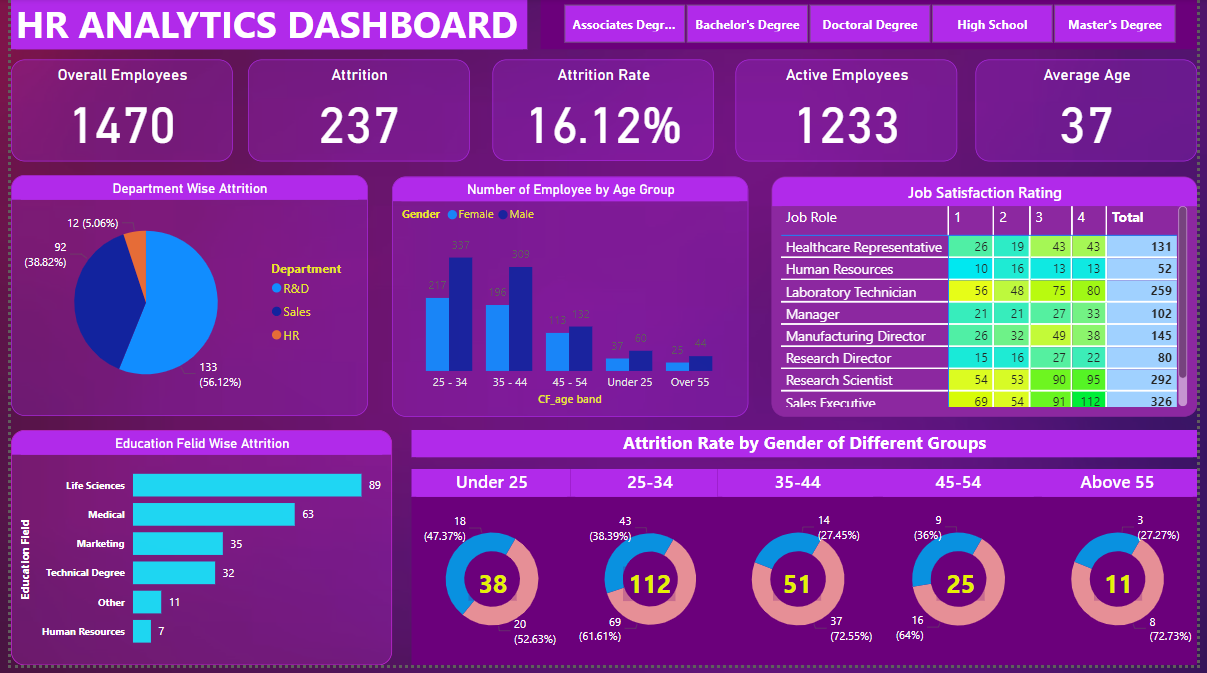

The page's visual inventory and layout, read from the dashboard file:
{"tool":"powerbi","page":{"name":"Page 1","canvas":[1280,720],"ordinal":0},"visuals":[{"type":"card","title":"Overall Employees","fields":{"Values":["Sum(HR data.Employee Count)"]},"box":[0,66.4,239.6,110.1],"z":0},{"type":"card","title":"Attrition","fields":{"Values":["Sum(HR data.Attrition Count)"]},"box":[255.8,66.4,239.6,110.1],"z":1000},{"type":"card","title":"Attrition Rate","fields":{"Values":["HR data.Attrition Rate"]},"box":[520.5,66.8,239,109.4],"z":2000},{"type":"card","title":"Active Employees","fields":{"Values":["HR data.Active Employee"]},"box":[782.1,66.4,239.6,110.1],"z":3000},{"type":"card","title":"Average Age","fields":{"Values":["Avg(HR data.Age)"]},"box":[1041.2,66.4,239.6,110.1],"z":4000},{"type":"pieChart","title":"Department Wise Attrition","fields":{"Category":["HR data.Department"],"Y":["Sum(HR data.Attrition Count)"]},"box":[0,191.1,385,260],"z":5000},{"type":"clusteredColumnChart","title":"Number of Employee by Age Group","fields":{"Category":["HR data.CF_age band"],"Series":["HR data.Gender"],"Y":["Sum(HR data.Employee Count)"]},"box":[411.1,192.4,384.8,259.2],"z":6000},{"type":"pivotTable","title":"Job Satisfaction Rating","fields":{"Rows":["HR data.Job Role"],"Columns":["HR data.Job Satisfaction"],"Values":["Sum(HR data.Employee Count)"]},"box":[820.9,192.7,459.9,259.1],"z":7000},{"type":"barChart","title":"Education Felid Wise Attrition","fields":{"Category":["HR data.Education Field"],"Y":["Sum(HR data.Attrition Count)"]},"box":[0,466.3,411.3,254.2],"z":8000},{"type":"donutChart","title":"Under 25","fields":{"Category":["HR data.Gender"],"Y":["Sum(HR data.Attrition Count)"],"Series":["HR data.CF_age band"]},"box":[432.3,508.4,173.3,212.1],"z":9000},{"type":"textbox","title":"Attrition Rate by Gender of Different Groups","box":[432.3,466.3,848.5,29.1],"z":10000},{"type":"donutChart","title":"25-34","fields":{"Category":["HR data.Gender"],"Y":["Sum(HR data.Attrition Count)"],"Series":["HR data.CF_age band"]},"box":[604,508.4,171.6,212.1],"z":11000},{"type":"donutChart","title":"35-44","fields":{"Category":["HR data.Gender"],"Y":["Sum(HR data.Attrition Count)"],"Series":["HR data.CF_age band"]},"box":[762.7,508.4,173.3,212.1],"z":12000},{"type":"donutChart","title":"45-54","fields":{"Category":["HR data.Gender"],"Y":["Sum(HR data.Attrition Count)"],"Series":["HR data.CF_age band"]},"box":[935.9,508.4,173.3,212.1],"z":13000},{"type":"donutChart","title":"Above 55","fields":{"Category":["HR data.Gender"],"Y":["Sum(HR data.Attrition Count)"],"Series":["HR data.CF_age band"]},"box":[1107.6,508.4,173.3,212.1],"z":14000},{"type":"card","fields":{"Values":["Sum(HR data.Attrition Count)"]},"box":[493.9,615.3,51.8,35.6],"z":15000},{"type":"card","fields":{"Values":["Sum(HR data.Attrition Count)"]},"box":[660.6,613.7,56.7,37.2],"z":16000},{"type":"card","fields":{"Values":["Sum(HR data.Attrition Count)"]},"box":[822.6,615.3,51.8,35.6],"z":17000},{"type":"card","fields":{"Values":["Sum(HR data.Attrition Count)"]},"box":[999.1,615.3,51.8,35.6],"z":18000},{"type":"card","fields":{"Values":["Sum(HR data.Attrition Count)"]},"box":[1169.1,615.3,51.8,35.6],"z":19000},{"type":"textbox","title":"HR ANALYTICS DASHBOARD","box":[0,0,557,55.1],"z":20000},{"type":"slicer","fields":{"Values":["HR data.Education"]},"box":[571.6,0,709.2,55.1],"z":21000}]}

Visuals, with their boxes in screenshot pixels (x1, y1, x2, y2), scaled from the page's 1280x720 canvas onto the 1207x673 screenshot:
"Overall Employees" card: x1=0, y1=62, x2=226, y2=165
"Attrition" card: x1=241, y1=62, x2=467, y2=165
"Attrition Rate" card: x1=491, y1=62, x2=716, y2=165
"Active Employees" card: x1=737, y1=62, x2=963, y2=165
"Average Age" card: x1=982, y1=62, x2=1206, y2=165
"Department Wise Attrition" pieChart: x1=0, y1=179, x2=363, y2=422
"Number of Employee by Age Group" clusteredColumnChart: x1=388, y1=180, x2=751, y2=422
"Job Satisfaction Rating" pivotTable: x1=774, y1=180, x2=1206, y2=422
"Education Felid Wise Attrition" barChart: x1=0, y1=436, x2=388, y2=672
"Under 25" donutChart: x1=408, y1=475, x2=571, y2=672
"Attrition Rate by Gender of Different Groups" textbox: x1=408, y1=436, x2=1206, y2=463
"25-34" donutChart: x1=570, y1=475, x2=731, y2=672
"35-44" donutChart: x1=719, y1=475, x2=883, y2=672
"45-54" donutChart: x1=883, y1=475, x2=1046, y2=672
"Above 55" donutChart: x1=1044, y1=475, x2=1206, y2=672
card - Sum(HR data.Attrition Count): x1=466, y1=575, x2=515, y2=608
card - Sum(HR data.Attrition Count): x1=623, y1=574, x2=676, y2=608
card - Sum(HR data.Attrition Count): x1=776, y1=575, x2=825, y2=608
card - Sum(HR data.Attrition Count): x1=942, y1=575, x2=991, y2=608
card - Sum(HR data.Attrition Count): x1=1102, y1=575, x2=1151, y2=608
"HR ANALYTICS DASHBOARD" textbox: x1=0, y1=0, x2=525, y2=52
slicer - HR data.Education: x1=539, y1=0, x2=1206, y2=52
